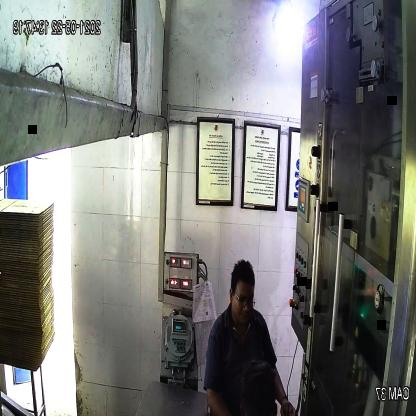goggles: (233, 293, 258, 312)
